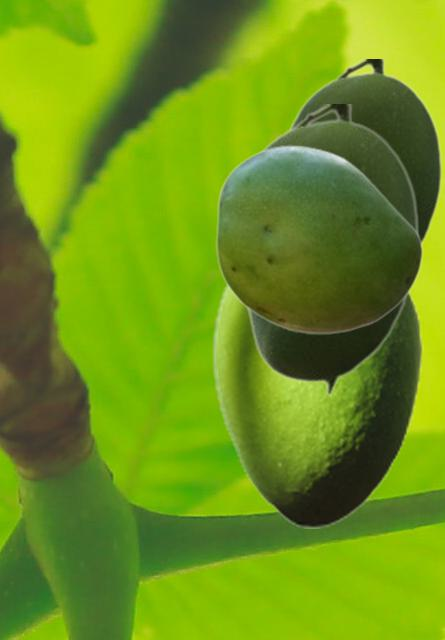green_mango: (211, 281, 422, 527), (242, 104, 418, 396), (215, 144, 422, 334), (289, 59, 441, 245)
